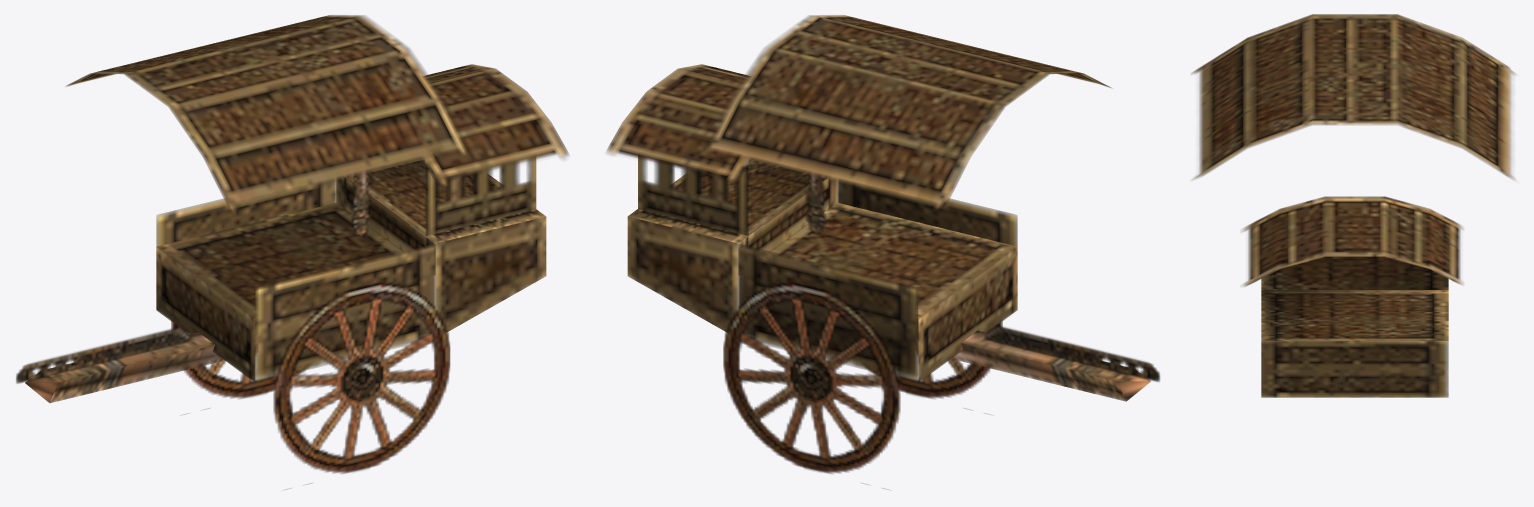
Rendered from Environment - Prop - Old Wooden Wagon - PM_WdWgn.glb.
The picture shows the model from 3 angles, left to right: view 1: azimuth 30°, elevation 25°; view 2: azimuth 150°, elevation 25°; view 3: azimuth 270°, elevation 25°; orthographic projection. The views are drawn at different scales.
Visible parts, largest first — view 1: PM_WDWGN; view 2: PM_WDWGN; view 3: PM_WDWGN.
Part boxes in pixels (bbox=[...]): PM_WDWGN: bbox=[16, 15, 568, 489]; PM_WDWGN: bbox=[607, 15, 1159, 489]; PM_WDWGN: bbox=[1191, 14, 1515, 397].
Bounding box in the file's own units: 25.85 × 19 × 15.67.
1 material, 1 textured.
